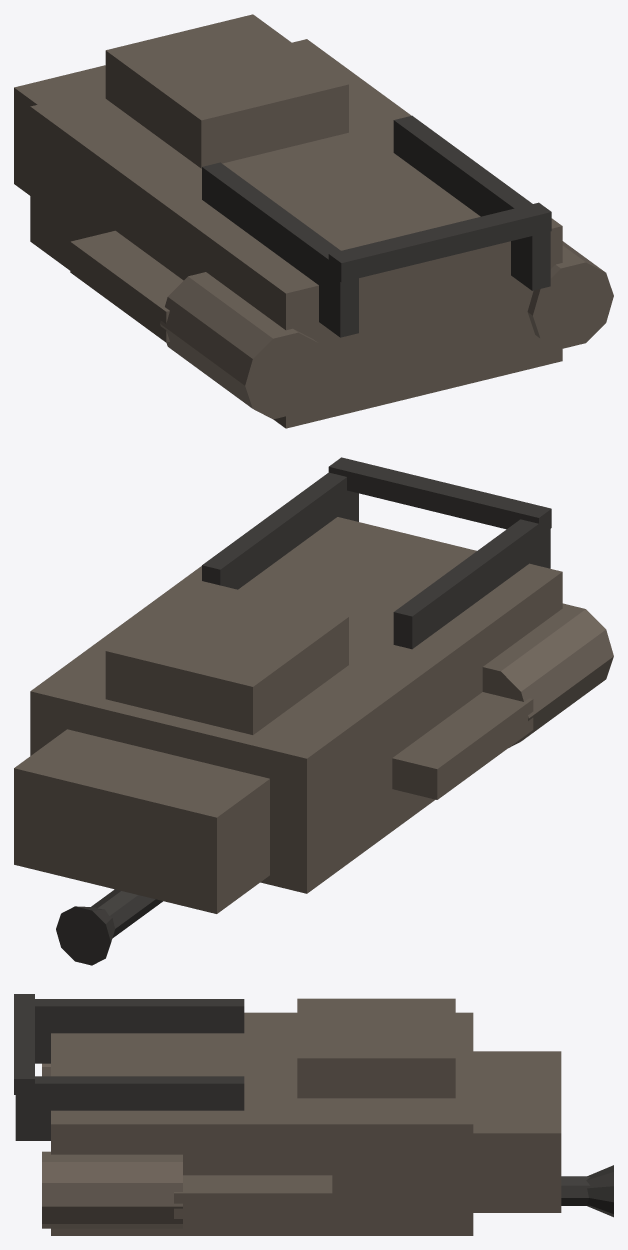
File: rival_cutter.glb
3 views of the same model, one above another, from view 1: azimuth 30°, elevation 25°; view 2: azimuth 150°, elevation 25°; view 3: azimuth 270°, elevation 25° (orthographic). The views are drawn at different scales.
Parts seen in each view (by area): view 1: RivalCutter, RivalGear; view 2: RivalCutter, RivalGear; view 3: RivalCutter, RivalGear.
Boxes of the visible parts, x1=… form: RivalCutter: x1=14, y1=14, x2=613, y2=428; RivalGear: x1=202, y1=115, x2=551, y2=337; RivalCutter: x1=14, y1=517, x2=613, y2=913; RivalGear: x1=56, y1=457, x2=551, y2=965; RivalCutter: x1=42, y1=998, x2=561, y2=1235; RivalGear: x1=14, y1=994, x2=613, y2=1217.
Size of the model in its own units: 2 by 1.16 by 3.41.
